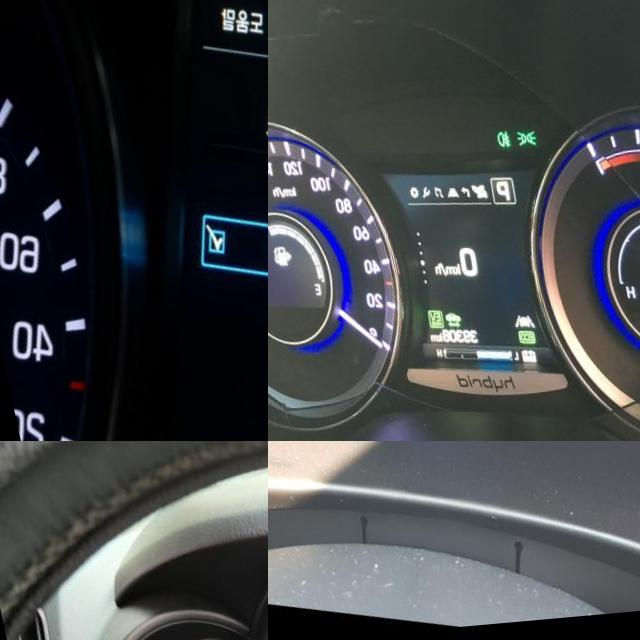FrontFogLight: (486, 137, 502, 154)
SideLamp: (505, 135, 528, 155)
